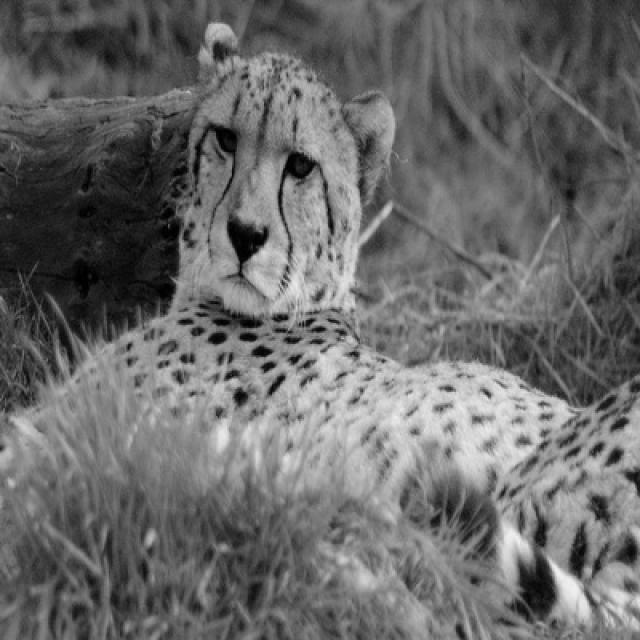Cheetah: (2, 21, 638, 638)
